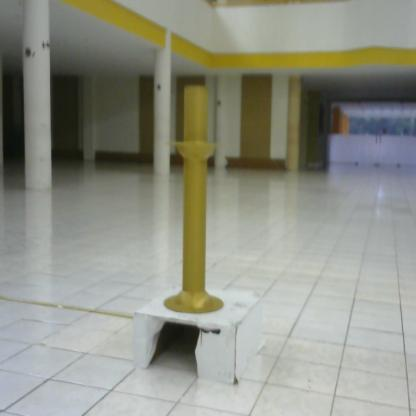pole: (161, 84, 228, 327)
